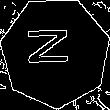N_E: (30, 31, 81, 74)
